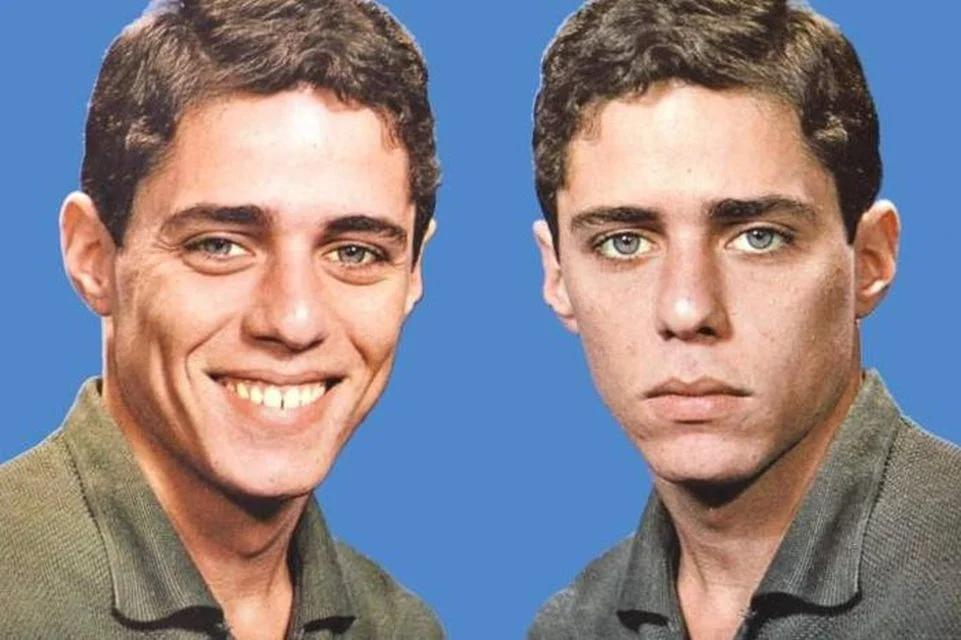feliz: (54, 0, 457, 508)
normal: (500, 0, 916, 505)
